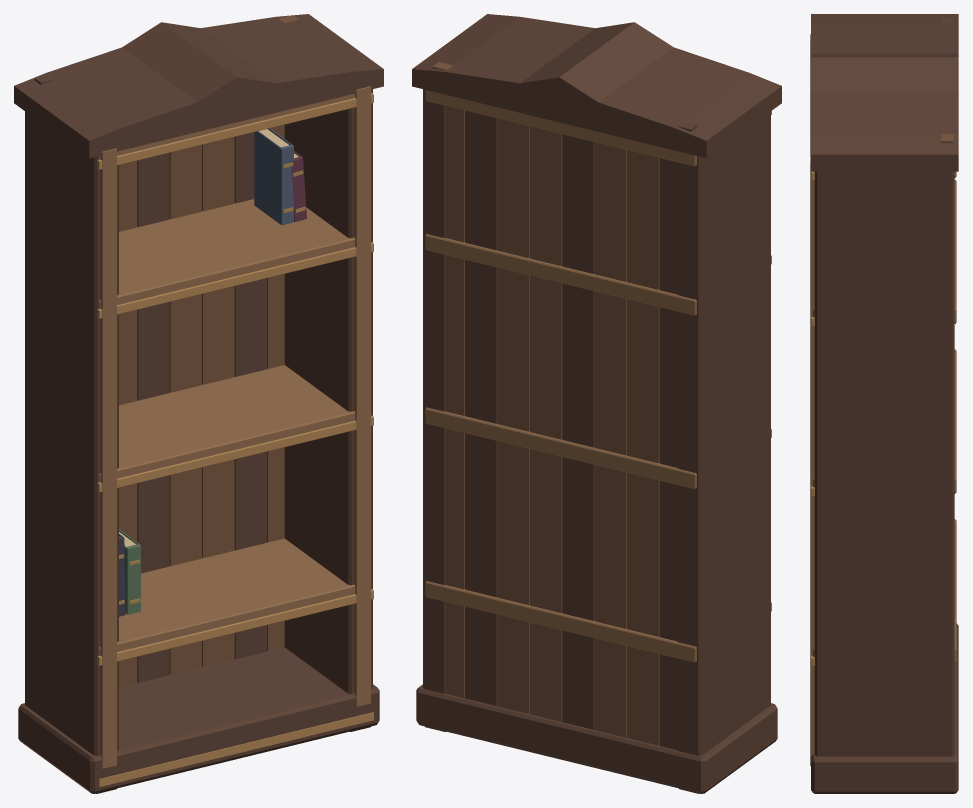
Rendered from tall_bookcase.glb.
The picture shows the model from 3 angles, left to right: view 1: azimuth 30°, elevation 25°; view 2: azimuth 150°, elevation 25°; view 3: azimuth 270°, elevation 25°; orthographic projection. The views are drawn at different scales.
Parts seen in each view (by area): view 1: tall_bookcase; view 2: tall_bookcase; view 3: tall_bookcase.
Part boxes in pixels (x1,y1,x2,y2): tall_bookcase: [14, 14, 383, 793]; tall_bookcase: [412, 14, 781, 793]; tall_bookcase: [810, 14, 958, 793].
Size of the model in its own units: 0.9 by 2 by 0.4.
